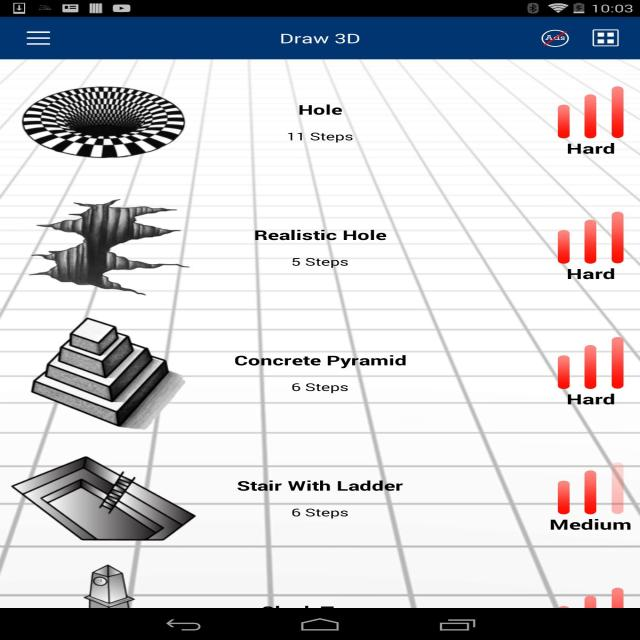button: (535, 28, 627, 52), (24, 26, 55, 48)
heading: (273, 30, 365, 49)
text: (2, 60, 640, 607), (231, 351, 409, 396), (234, 478, 411, 520), (247, 223, 391, 269), (268, 102, 363, 146)
